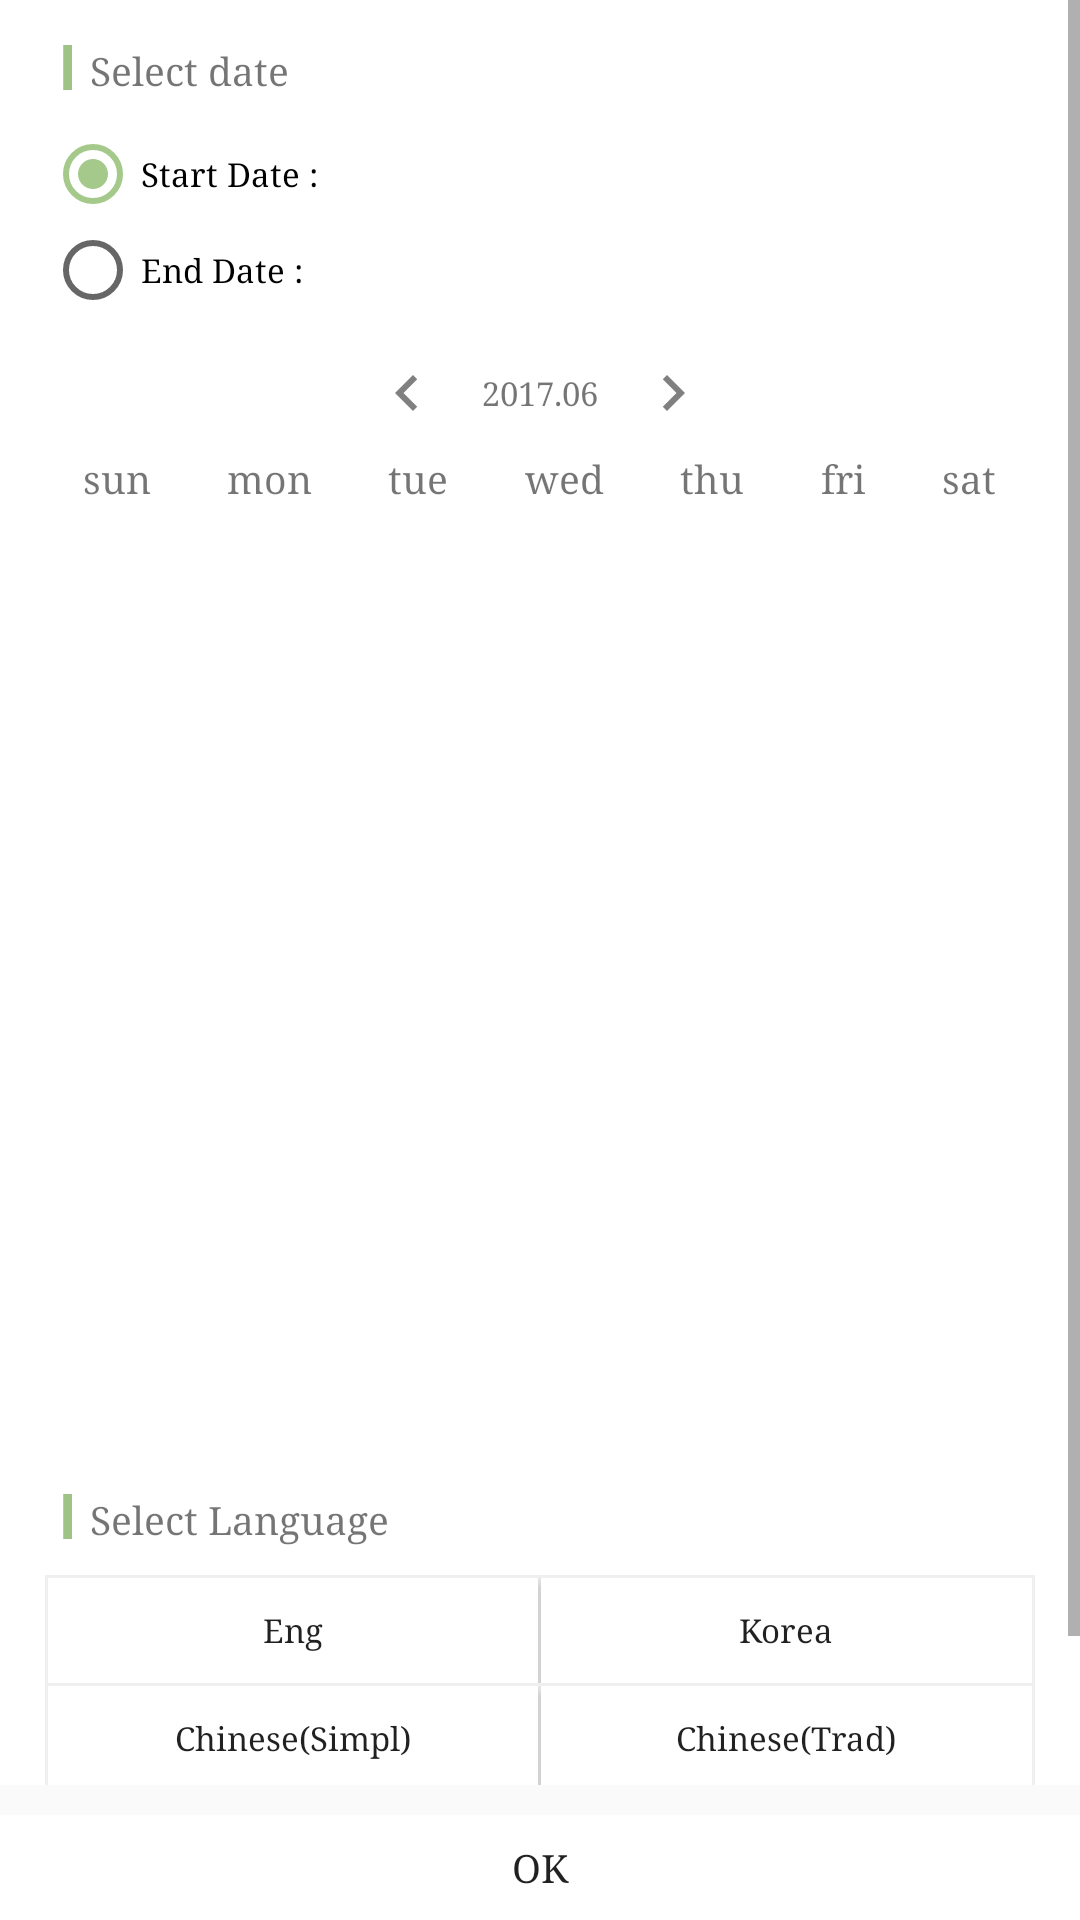

Screen size 1080 × 1920. Icon name, then its center in pixels as [x,y]:
chevron left: [406,393]
chevron right: [674,393]
